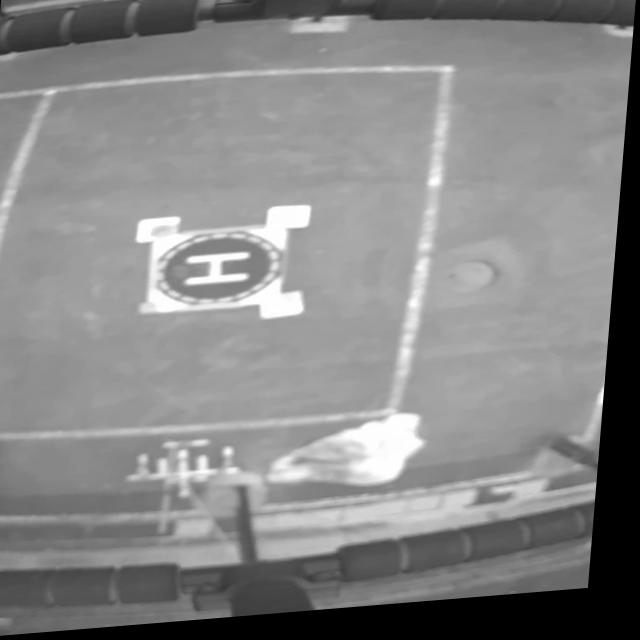Helipad: (189, 256, 256, 289)
